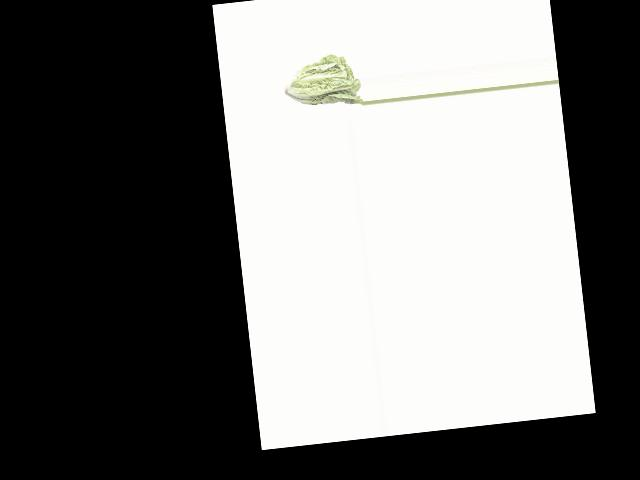lettuce: (283, 49, 362, 111)
